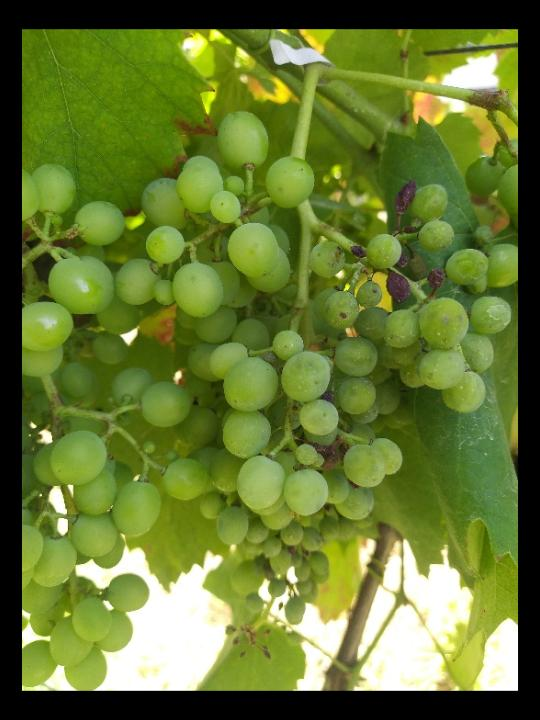grape: (112, 106, 516, 547)
